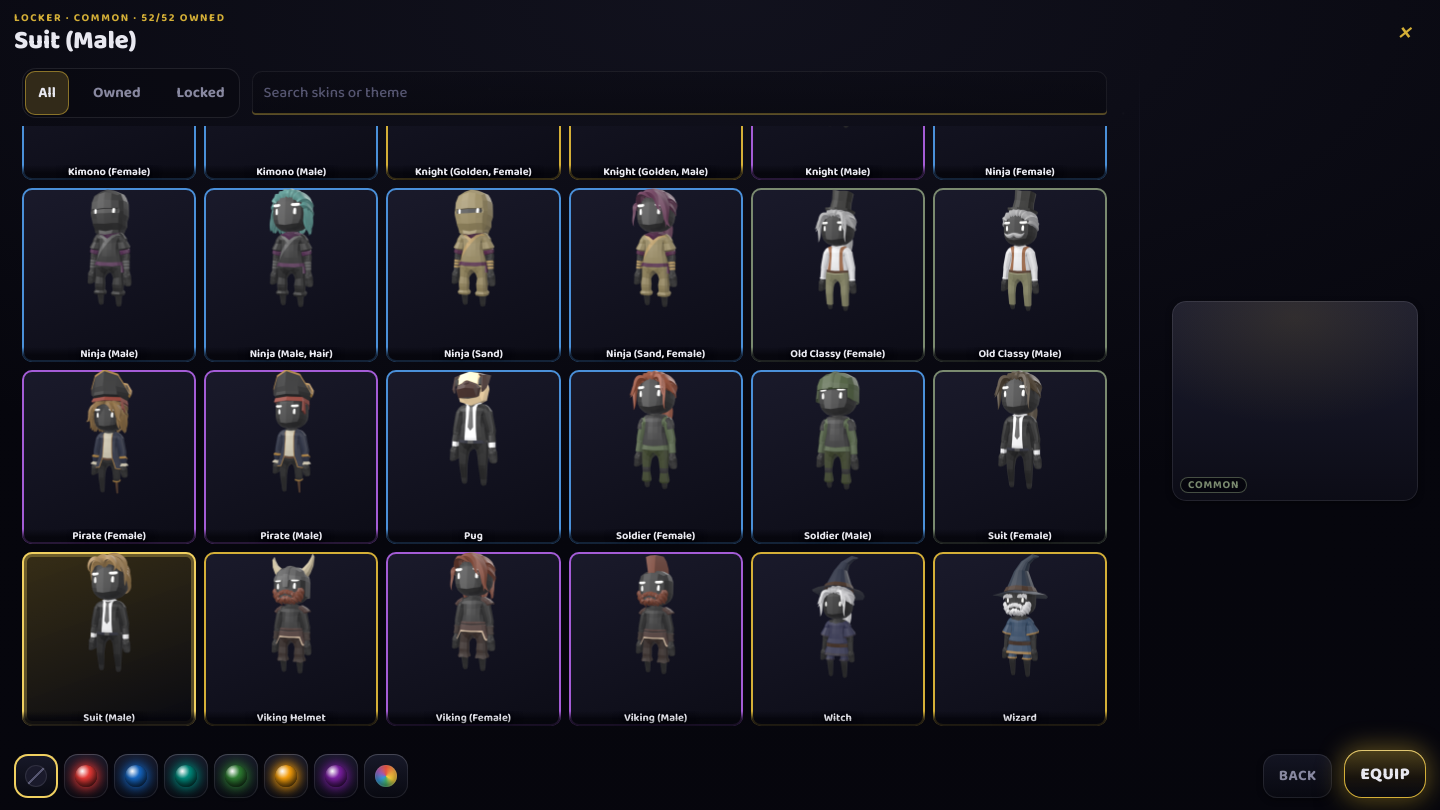
Test: CharacterSelect (locker) › shows empty state when search has no match
(page scrolled)
Step 1. Type "xxxxnoskinxxx" into the field with placeholder "Search skins or theme" → (679, 93), box [252,71,1107,115]
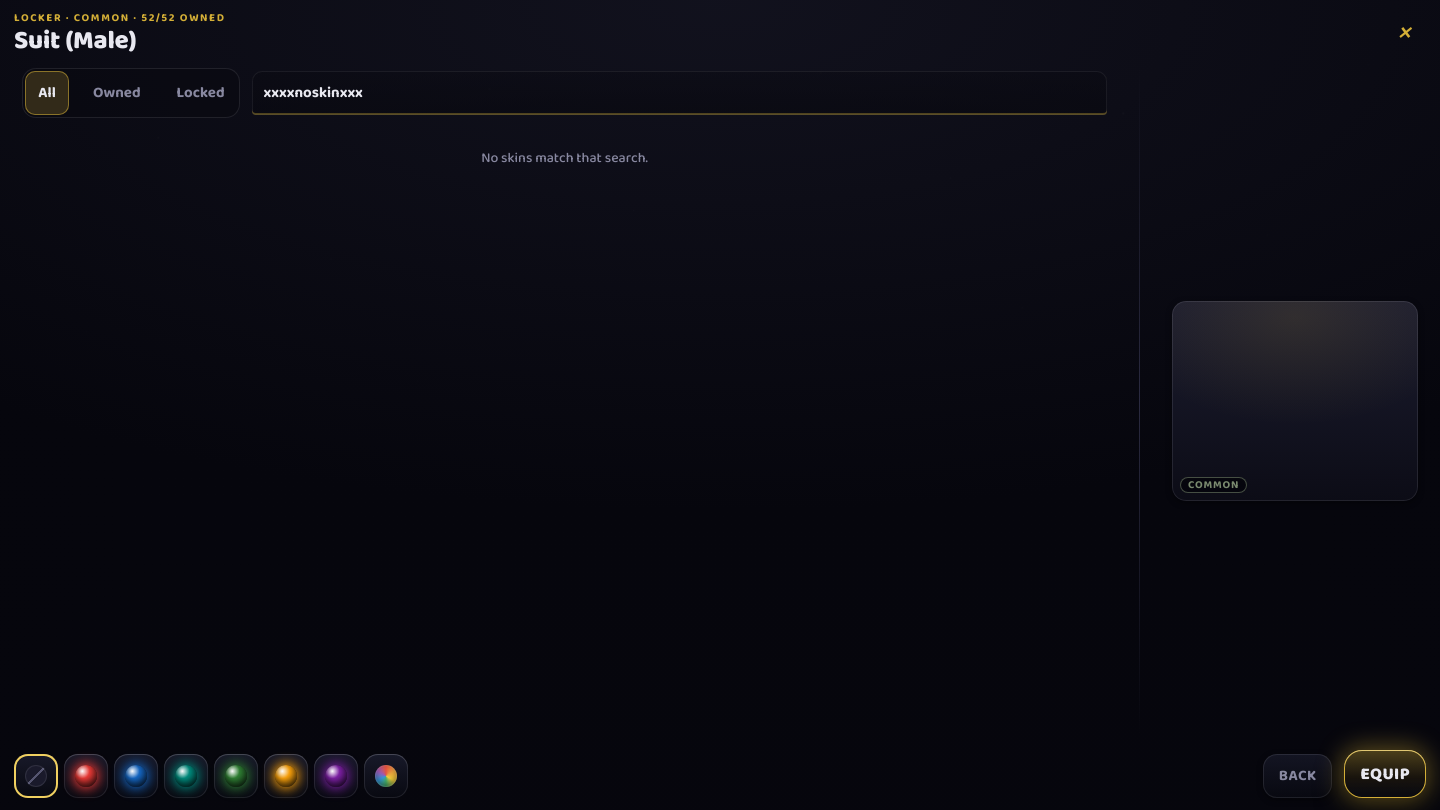
Check: the text "No skins match that search." is shown, box [481,147,648,169]
